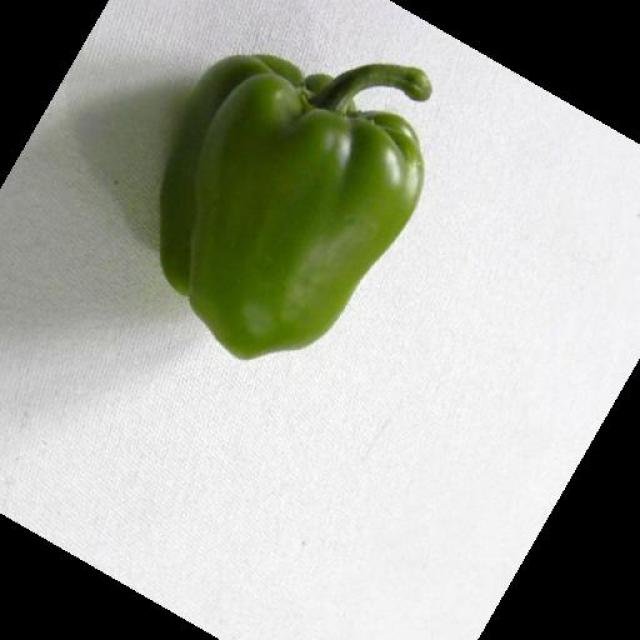Fresh_Capsicum: (164, 52, 432, 391)
